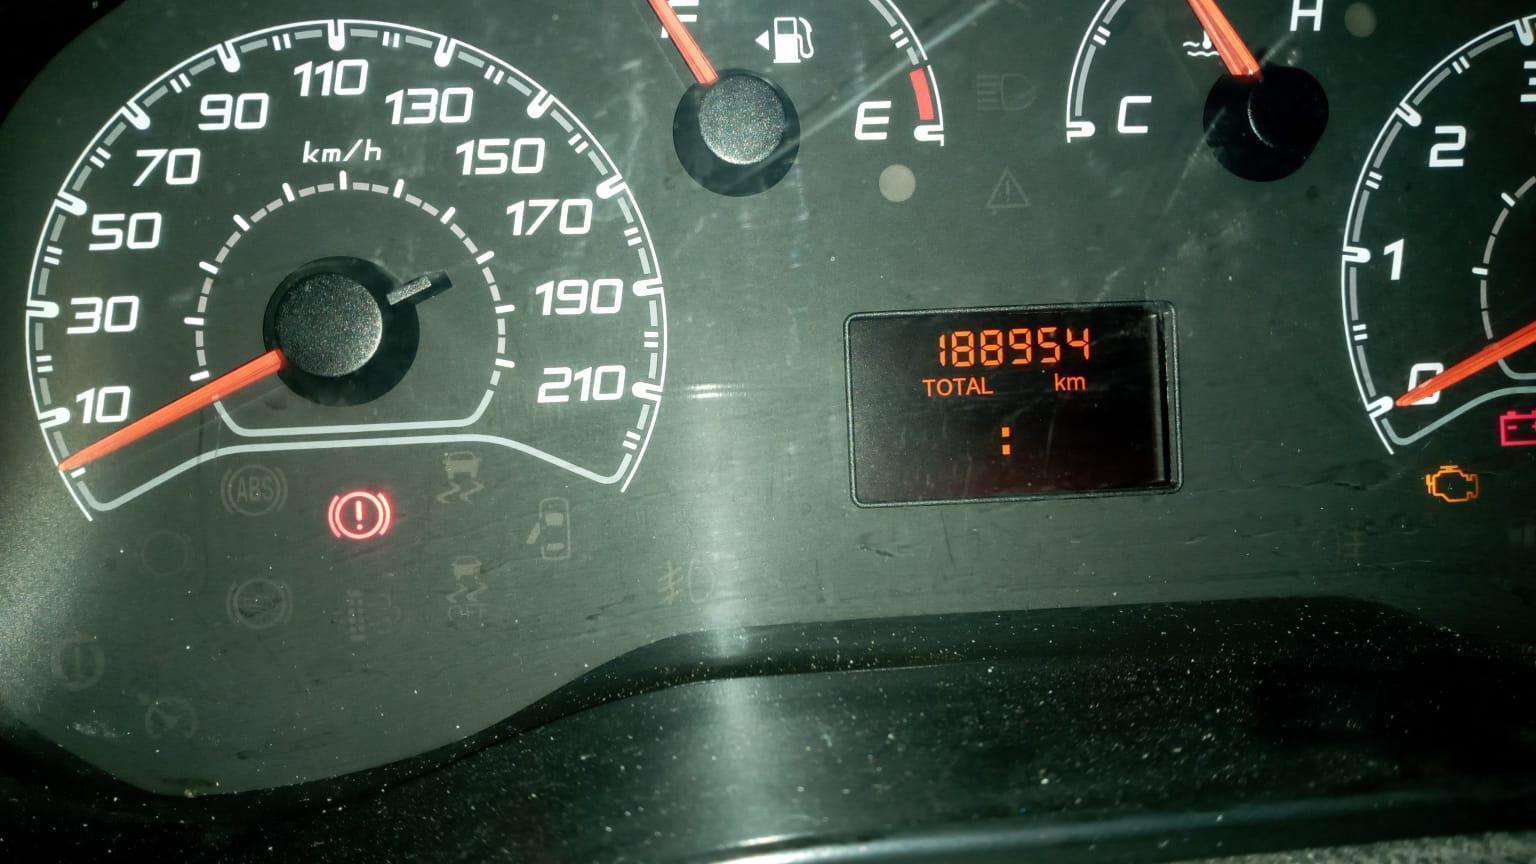1: (937, 332, 947, 368)
4: (1065, 326, 1091, 360)
5: (1036, 326, 1061, 363)
8: (951, 329, 976, 368), (979, 329, 1004, 366)
9: (1007, 327, 1033, 365)
X: (999, 425, 1012, 456), (1067, 375, 1087, 391), (935, 378, 953, 396), (965, 376, 981, 396), (951, 377, 966, 396), (921, 378, 936, 397), (1053, 372, 1067, 392), (980, 375, 993, 393)
odometer: (841, 297, 1185, 511)
